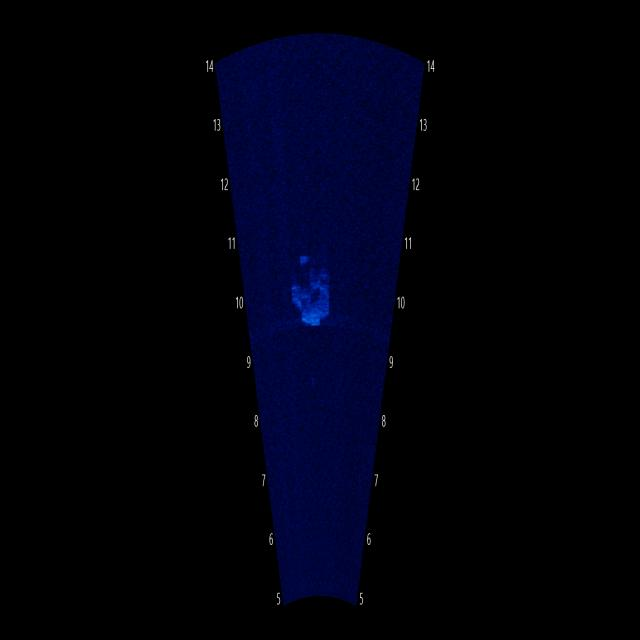circle: (283, 223, 346, 348)
